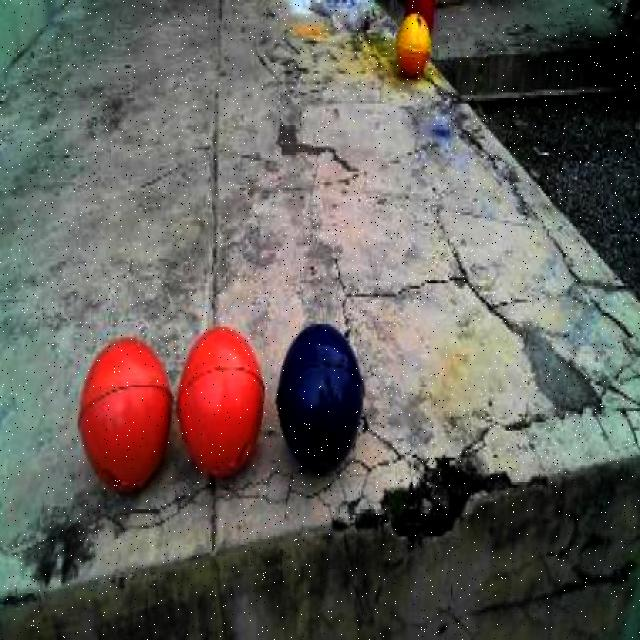buoy: (72, 321, 176, 498), (268, 308, 369, 484), (170, 313, 269, 479), (391, 0, 433, 92)
